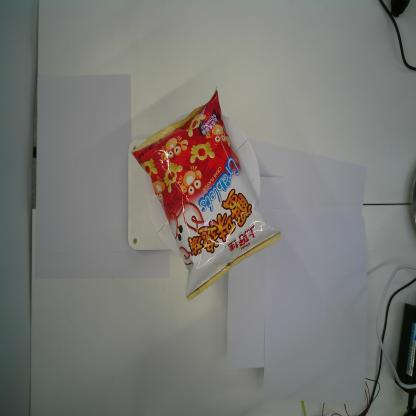Puffed Food: (131, 89, 281, 302)
